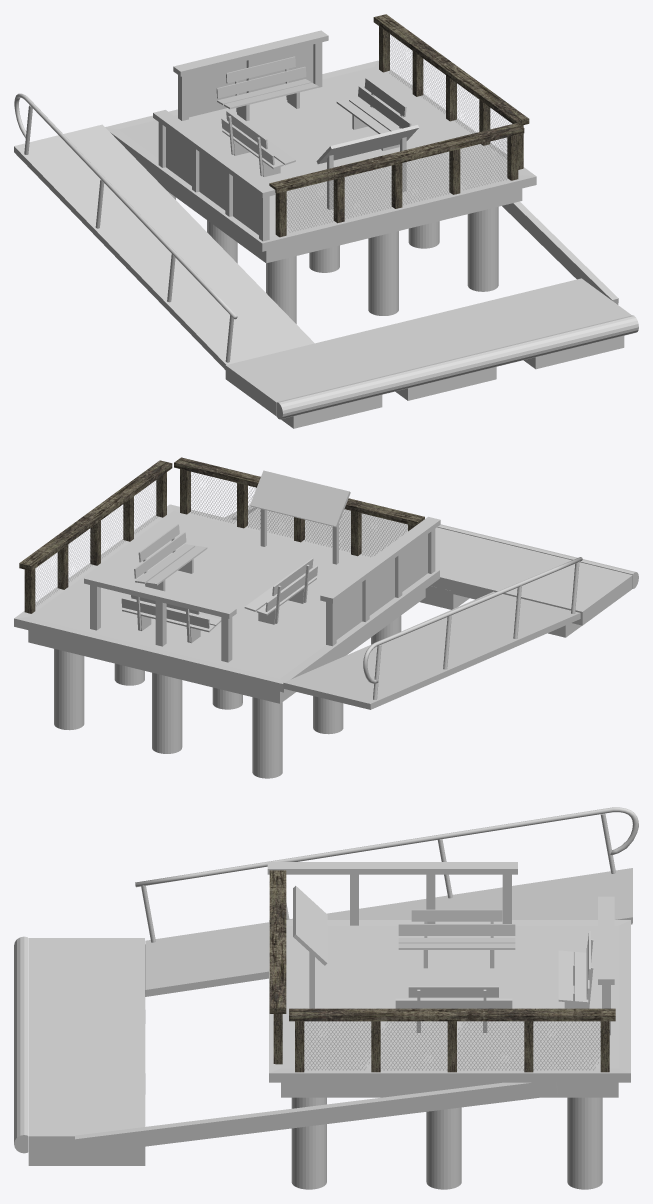
The model's file is docks.glb.
3 renders of one model, top to bottom at view 1: azimuth 30°, elevation 25°; view 2: azimuth 150°, elevation 25°; view 3: azimuth 270°, elevation 25°, orthographic. The views are drawn at different scales.
Parts seen in each view (by area): view 1: base, Dock, down ramp, Dock Wood Railing, Dock Wood Railing.002, Dock Wood Railing.001, Dock Wood Railing.003, bench, Metal Railing, pillar, pillar.003, bench.001 (+5 smaller); view 2: base, Dock, down ramp, Dock Wood Railing.002, Dock Wood Railing.001, Dock Wood Railing, Stand, Dock Wood Railing.003, bench.001, pillar.008, pillar.002, pillar.005 (+6 smaller); view 3: base, Dock, down ramp, Dock Wood Railing.001, Dock Wood Railing.002, bench.002, Metal Railing, pillar.002, Dock Wood Railing, pillar.001, pillar, bench.001 (+3 smaller).
Part boxes in pixels (x1=…): base: x1=105, y1=60, x2=536, y2=263; Dock: x1=225, y1=201, x2=638, y2=428; down ramp: x1=14, y1=124, x2=314, y2=369; Dock Wood Railing: x1=269, y1=123, x2=524, y2=237; Dock Wood Railing.002: x1=153, y1=110, x2=275, y2=241; Dock Wood Railing.001: x1=373, y1=14, x2=529, y2=169; Dock Wood Railing.003: x1=173, y1=30, x2=328, y2=120; bench: x1=216, y1=56, x2=318, y2=121; Metal Railing: x1=14, y1=93, x2=237, y2=362; pillar: x1=467, y1=206, x2=498, y2=291; pillar.003: x1=368, y1=231, x2=398, y2=315; bench.001: x1=336, y1=78, x2=411, y2=150; base: x1=14, y1=504, x2=439, y2=703; Dock: x1=224, y1=505, x2=638, y2=637; down ramp: x1=283, y1=591, x2=580, y2=709; Dock Wood Railing.002: x1=320, y1=516, x2=440, y2=646; Dock Wood Railing.001: x1=19, y1=460, x2=172, y2=613; Dock Wood Railing: x1=174, y1=457, x2=424, y2=556; Stand: x1=250, y1=470, x2=350, y2=564; Dock Wood Railing.003: x1=84, y1=573, x2=236, y2=662; bench.001: x1=134, y1=524, x2=207, y2=591; pillar.008: x1=252, y1=697, x2=282, y2=778; pillar.002: x1=54, y1=649, x2=84, y2=730; pillar.005: x1=152, y1=672, x2=182, y2=753; base: x1=269, y1=920, x2=630, y2=1097; Dock: x1=14, y1=936, x2=557, y2=1165; down ramp: x1=145, y1=868, x2=632, y2=996; Dock Wood Railing.001: x1=289, y1=1008, x2=615, y2=1072; Dock Wood Railing.002: x1=267, y1=862, x2=517, y2=925; bench.002: x1=398, y1=909, x2=515, y2=968; Metal Railing: x1=135, y1=807, x2=638, y2=942; pillar.002: x1=567, y1=1097, x2=602, y2=1189; Dock Wood Railing: x1=269, y1=870, x2=286, y2=1064; pillar.001: x1=426, y1=1107, x2=461, y2=1189; pillar: x1=291, y1=1097, x2=326, y2=1189; bench.001: x1=395, y1=986, x2=512, y2=1032.
Size of the model in its own units: 8.28 by 3.93 by 10.71.
1 material, 1 textured.
